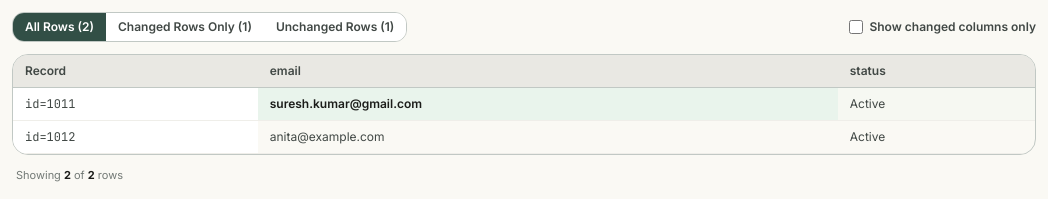
Scenario: ChangePreviewTable › filters to changed rows only
Click the tab "Changed Rows Only (1)" at (185, 27), box [106,13,264,41]
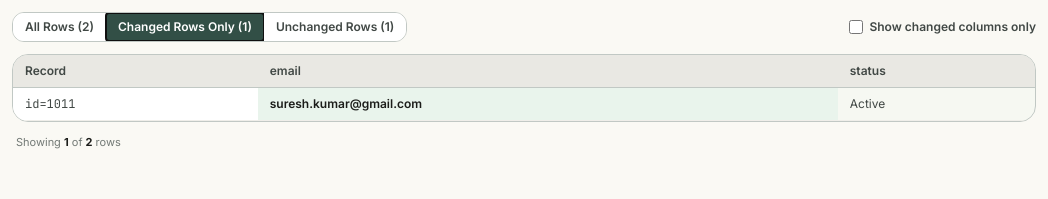
Expected: the text "id=1011" is shown, [13,88,258,121]
Expected: the text "id=1012" is gone
